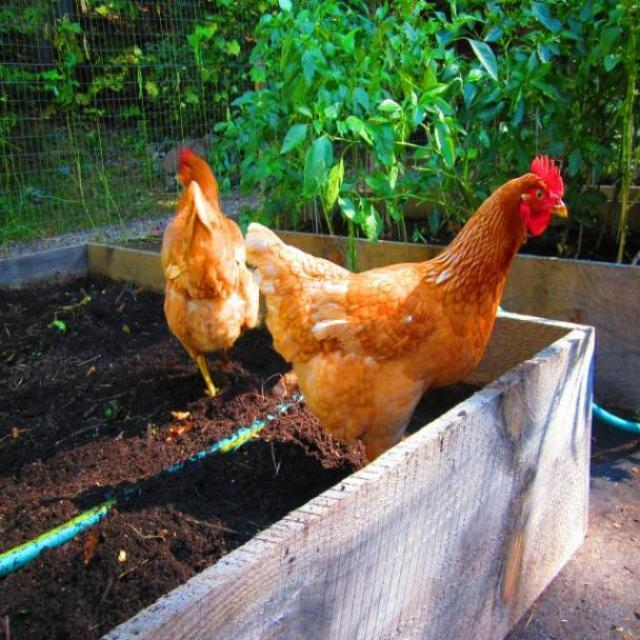Chicken: (251, 158, 570, 451), (161, 144, 254, 395)
